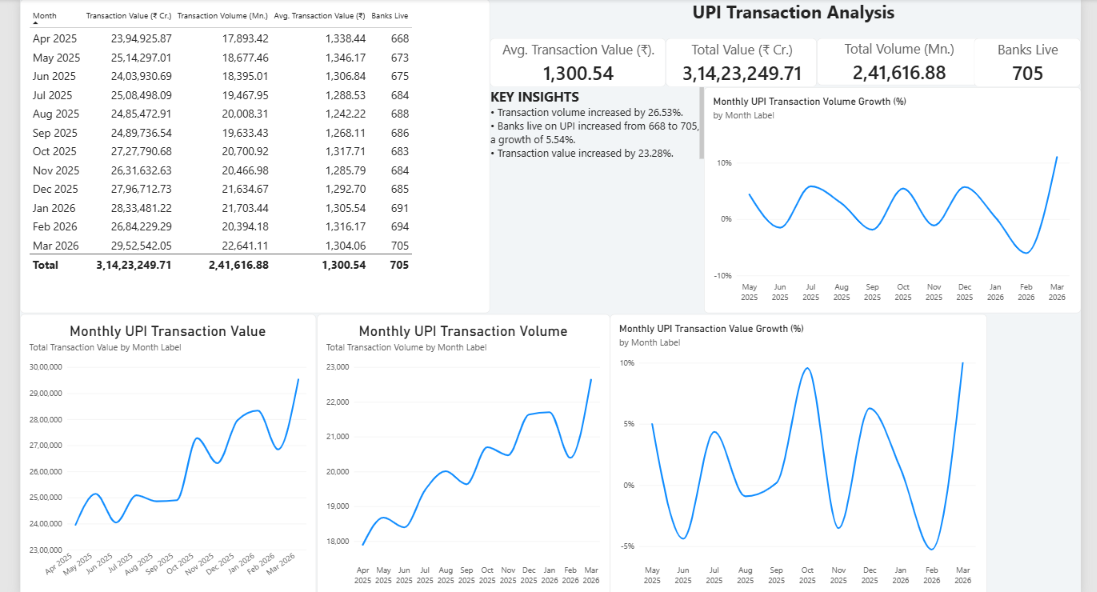

What the dashboard file says about the page in this screenshot:
{"tool":"powerbi","page":{"name":"Page 1","canvas":[1920,1080],"ordinal":0},"visuals":[{"type":"tableEx","fields":{"Values":["upi_transactions.Month Label","Sum(upi_transactions.Value (In Cr.))","Sum(upi_transactions.Volume (In Mn.))","upi_transactions.Average Transaction Value","upi_transactions.Latest Banks Live"]},"box":[0,0,850.5,568.2],"z":0},{"type":"cardVisual","fields":{"Data":["upi_transactions.Total Transaction Volume"]},"box":[1442.3,70.6,296.8,85.1],"z":1000},{"type":"lineChart","title":"Monthly UPI Transaction Volume","fields":{"Category":["upi_transactions.Month Label"],"Y":["upi_transactions.Total Transaction Volume"]},"box":[537.5,570,530.2,510.3],"z":2000},{"type":"lineChart","title":"Monthly UPI Transaction Value","fields":{"Category":["upi_transactions.Month Label"],"Y":["upi_transactions.Total Transaction Value"]},"box":[0,570,535.7,510.3],"z":3000},{"type":"textbox","box":[1169,0,461.5,83.2],"z":4000},{"type":"cardVisual","fields":{"Data":["upi_transactions.Total Transaction Value"]},"box":[1169,70.6,273.3,88.7],"z":5000},{"type":"cardVisual","fields":{"Data":["upi_transactions.Average Transaction Value"]},"box":[850.5,70.6,318.5,88.7],"z":6000},{"type":"cardVisual","fields":{"Data":["upi_transactions.Latest Banks Live"]},"box":[1726.4,70.6,193.6,88.7],"z":7000},{"type":"textbox","box":[850.5,159.3,409,114],"z":8000},{"type":"textbox","box":[850.5,159.3,387.3,139.3],"z":9000},{"type":"lineChart","fields":{"Category":["upi_transactions.Month Label"],"Y":["upi_transactions.Monthly Volume Growth %"]},"box":[1237.8,159.3,682.2,409],"z":10000},{"type":"lineChart","fields":{"Category":["upi_transactions.Month Label"],"Y":["upi_transactions.Monthly Value Growth %"]},"box":[1067.7,570,682.2,510.3],"z":11000}]}

Visuals, with their boxes on the page's 1920x1080 design canvas (x1, y1, x2, y2). These are canvas units, not pixel positions in the 1097x592 screenshot, which may show the page scaled, cropped or inside an application window:
tableEx - upi_transactions.Month Label x Sum(upi_transactions.Value (In Cr.)): (left=0, top=0, right=850, bottom=568)
cardVisual - upi_transactions.Total Transaction Volume: (left=1442, top=71, right=1739, bottom=156)
"Monthly UPI Transaction Volume" lineChart: (left=538, top=570, right=1068, bottom=1080)
"Monthly UPI Transaction Value" lineChart: (left=0, top=570, right=536, bottom=1080)
textbox: (left=1169, top=0, right=1630, bottom=83)
cardVisual - upi_transactions.Total Transaction Value: (left=1169, top=71, right=1442, bottom=159)
cardVisual - upi_transactions.Average Transaction Value: (left=850, top=71, right=1169, bottom=159)
cardVisual - upi_transactions.Latest Banks Live: (left=1726, top=71, right=1920, bottom=159)
textbox: (left=850, top=159, right=1260, bottom=273)
textbox: (left=850, top=159, right=1238, bottom=299)
lineChart - upi_transactions.Month Label x upi_transactions.Monthly Volume Growth %: (left=1238, top=159, right=1920, bottom=568)
lineChart - upi_transactions.Month Label x upi_transactions.Monthly Value Growth %: (left=1068, top=570, right=1750, bottom=1080)
